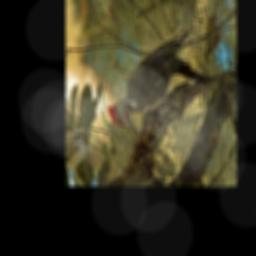Woodpecker: (106, 28, 194, 137)
